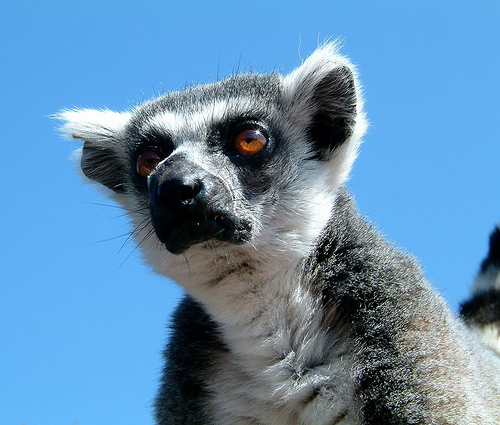cat: (39, 24, 497, 423)
